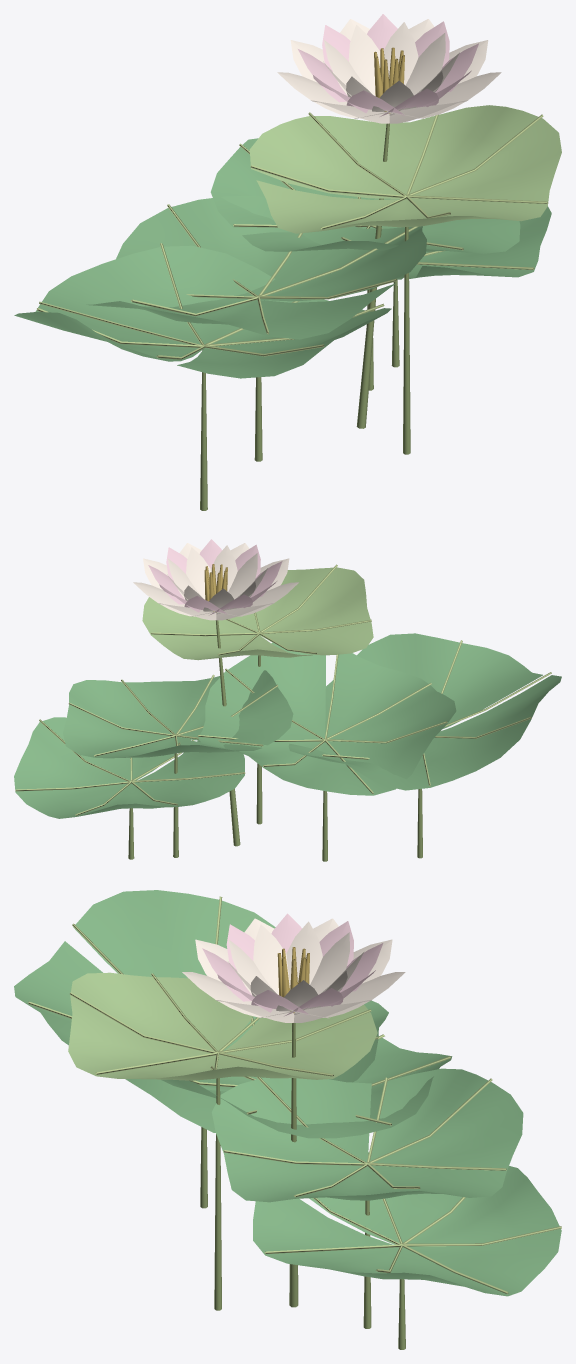
Rendered from study_lotus_3.glb.
3 views of the same model, one above another, from view 1: azimuth 30°, elevation 25°; view 2: azimuth 150°, elevation 25°; view 3: azimuth 270°, elevation 25° (orthographic). The views are drawn at different scales.
Visible parts, largest first — view 1: study_lotus_3_LakeLeaf, study_lotus_3_LakeLeafLight, study_lotus_3_LakePetal, study_lotus_3_LakeVein, study_lotus_3_LakeReed, study_lotus_3_LakePink, study_lotus_3_LakePollen; view 2: study_lotus_3_LakeLeaf, study_lotus_3_LakeLeafLight, study_lotus_3_LakeVein, study_lotus_3_LakePetal, study_lotus_3_LakePink, study_lotus_3_LakeReed, study_lotus_3_LakePollen; view 3: study_lotus_3_LakeLeaf, study_lotus_3_LakeLeafLight, study_lotus_3_LakePetal, study_lotus_3_LakeVein, study_lotus_3_LakePink, study_lotus_3_LakeReed, study_lotus_3_LakePollen.
Boxes of the visible parts, x1,y1,x2,y2 form: study_lotus_3_LakeLeaf: (14,138,551,378); study_lotus_3_LakeLeafLight: (249,105,561,233); study_lotus_3_LakePetal: (277,19,501,123); study_lotus_3_LakeVein: (37,112,548,359); study_lotus_3_LakeReed: (200,123,410,510); study_lotus_3_LakePink: (298,14,478,116); study_lotus_3_LakePollen: (374,47,404,113); study_lotus_3_LakeLeaf: (14,633,561,818); study_lotus_3_LakeLeafLight: (142,567,373,660); study_lotus_3_LakeVein: (15,564,551,815); study_lotus_3_LakePetal: (133,543,298,620); study_lotus_3_LakePink: (148,539,282,615); study_lotus_3_LakeReed: (128,620,422,861); study_lotus_3_LakePollen: (204,564,227,612); study_lotus_3_LakeLeaf: (14,890,561,1296); study_lotus_3_LakeLeafLight: (68,972,377,1080); study_lotus_3_LakePetal: (182,918,405,1022); study_lotus_3_LakeVein: (28,896,561,1294); study_lotus_3_LakePink: (202,913,383,1016); study_lotus_3_LakeReed: (200,1023,405,1349); study_lotus_3_LakePollen: (277,947,309,1013).
Bounding box in the file's own units: 2.09 × 1.25 × 1.69.
